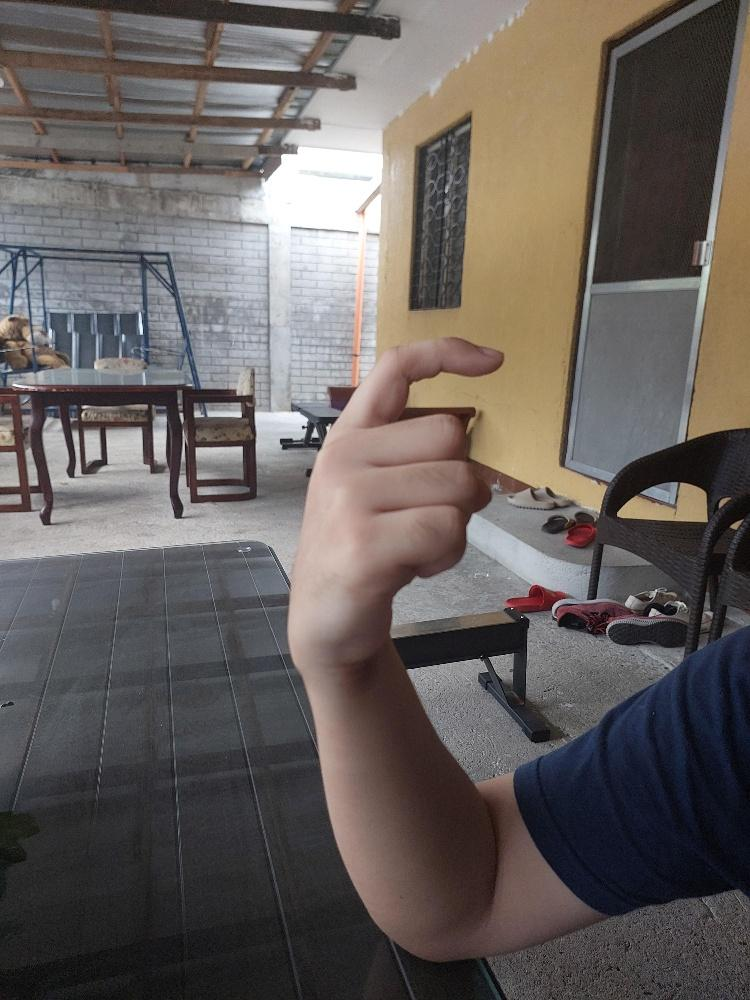x: (284, 330, 506, 658)
